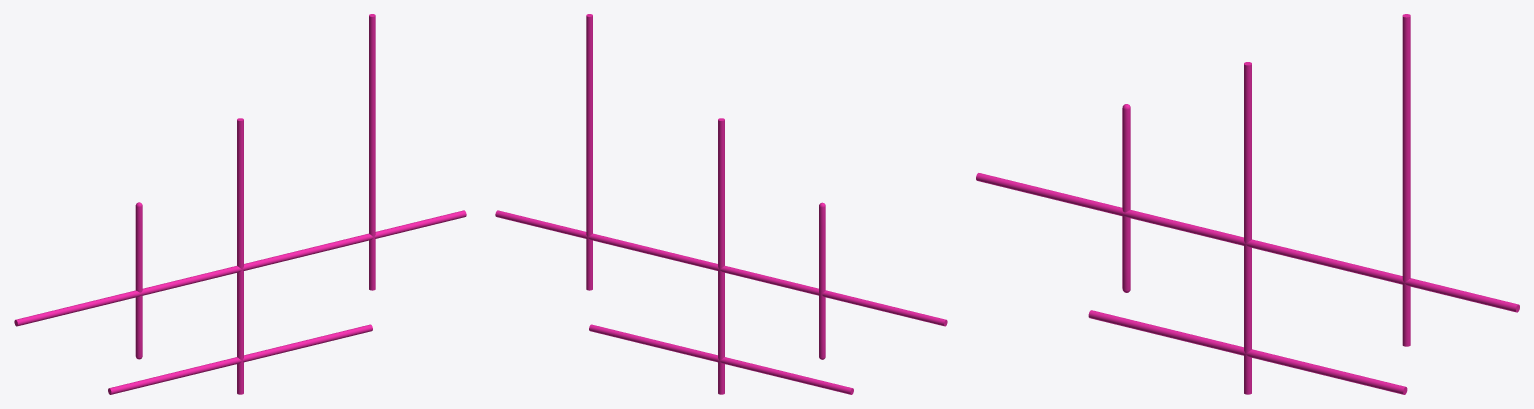
File: pipe1.fbx
3 renders of one model, left to right at view 1: azimuth 30°, elevation 25°; view 2: azimuth 150°, elevation 25°; view 3: azimuth 330°, elevation 25°, orthographic. The views are drawn at different scales.
Parts seen in each view (by area): view 1: Oil_Tank, Oil_Tank_2, Oil_Tank_1_2, Oil_Tank_1_3, Oil_Tank_1; view 2: Oil_Tank, Oil_Tank_2, Oil_Tank_1_2, Oil_Tank_1_3, Oil_Tank_1; view 3: Oil_Tank, Oil_Tank_1_2, Oil_Tank_2, Oil_Tank_1_3, Oil_Tank_1.
Boxes of the visible parts, left/top/right/bottom form: Oil_Tank: left=14, top=210, right=466, bottom=326; Oil_Tank_2: left=108, top=324, right=372, bottom=394; Oil_Tank_1_2: left=369, top=14, right=375, bottom=290; Oil_Tank_1_3: left=237, top=118, right=243, bottom=394; Oil_Tank_1: left=135, top=202, right=142, bottom=359; Oil_Tank: left=495, top=210, right=947, bottom=326; Oil_Tank_2: left=589, top=324, right=853, bottom=394; Oil_Tank_1_2: left=586, top=14, right=592, bottom=290; Oil_Tank_1_3: left=718, top=118, right=724, bottom=394; Oil_Tank_1: left=819, top=202, right=825, bottom=359; Oil_Tank: left=976, top=173, right=1519, bottom=312; Oil_Tank_1_2: left=1402, top=14, right=1410, bottom=346; Oil_Tank_2: left=1088, top=310, right=1407, bottom=394; Oil_Tank_1_3: left=1244, top=62, right=1251, bottom=394; Oil_Tank_1: left=1122, top=104, right=1130, bottom=292.
Bounding box in the file's own units: 1500 × 1104 × 21.33.
